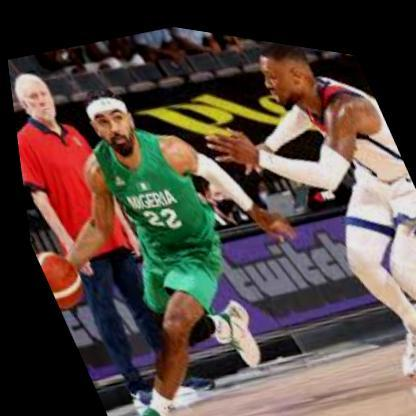basketball: (26, 240, 84, 314)
